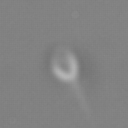normal: (72, 80, 99, 128)
